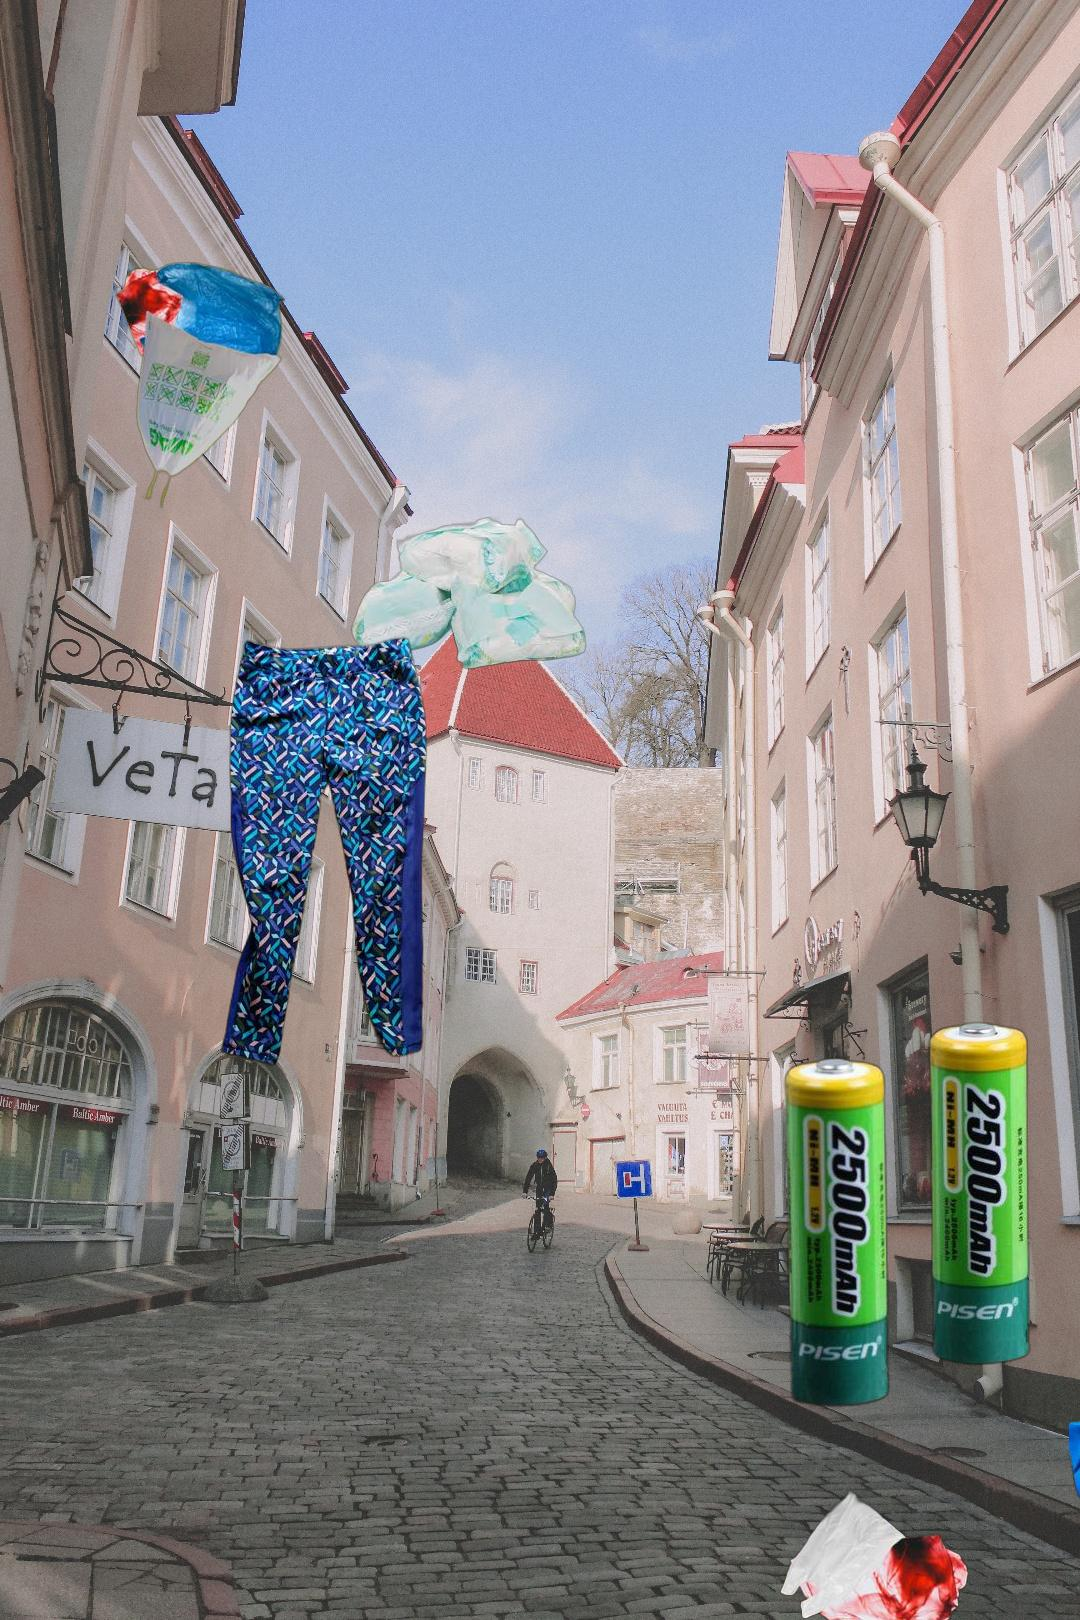battery: (779, 951, 1080, 1411)
clothes: (218, 633, 430, 1070), (1069, 1384, 1080, 1620)
plastic-bag: (20, 229, 288, 512), (777, 1487, 972, 1620)
trash: (350, 513, 589, 673)
